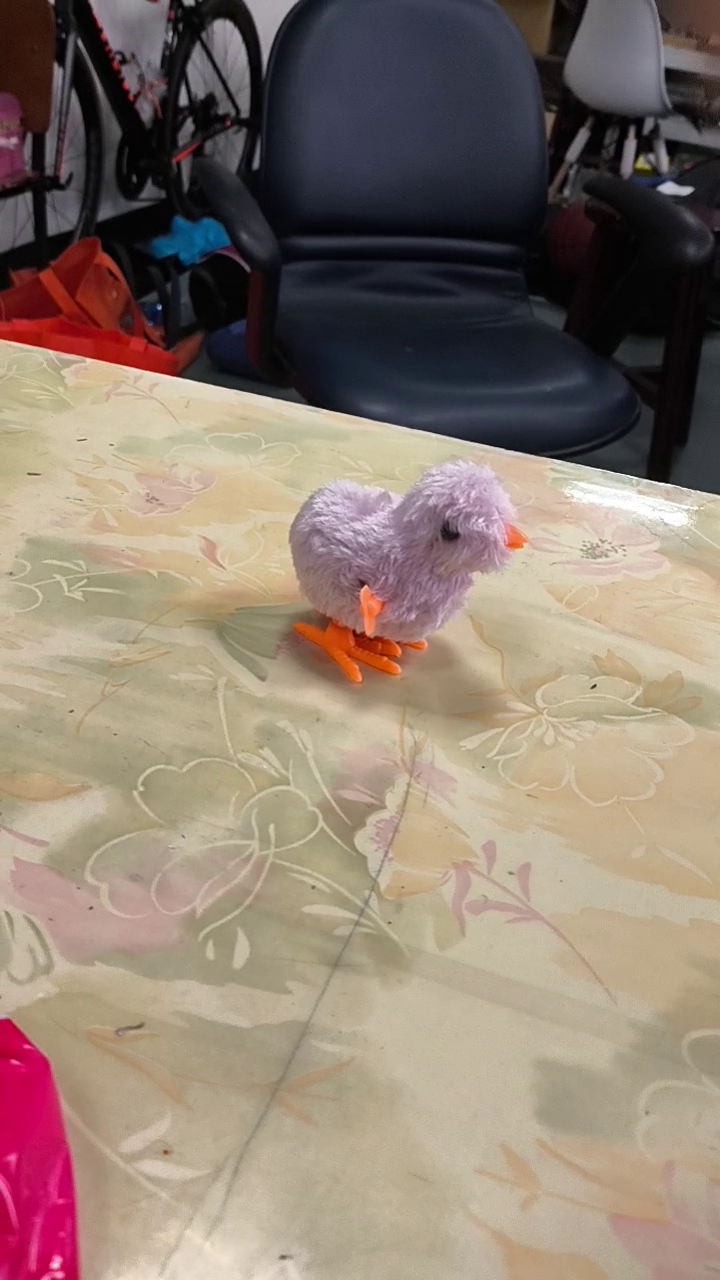pink chicken: (283, 456, 533, 688)
